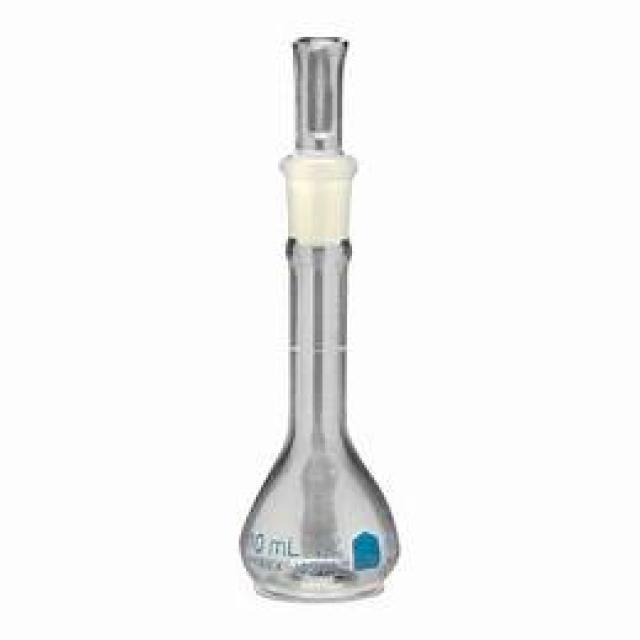Volumetric flask: (230, 27, 406, 601)
